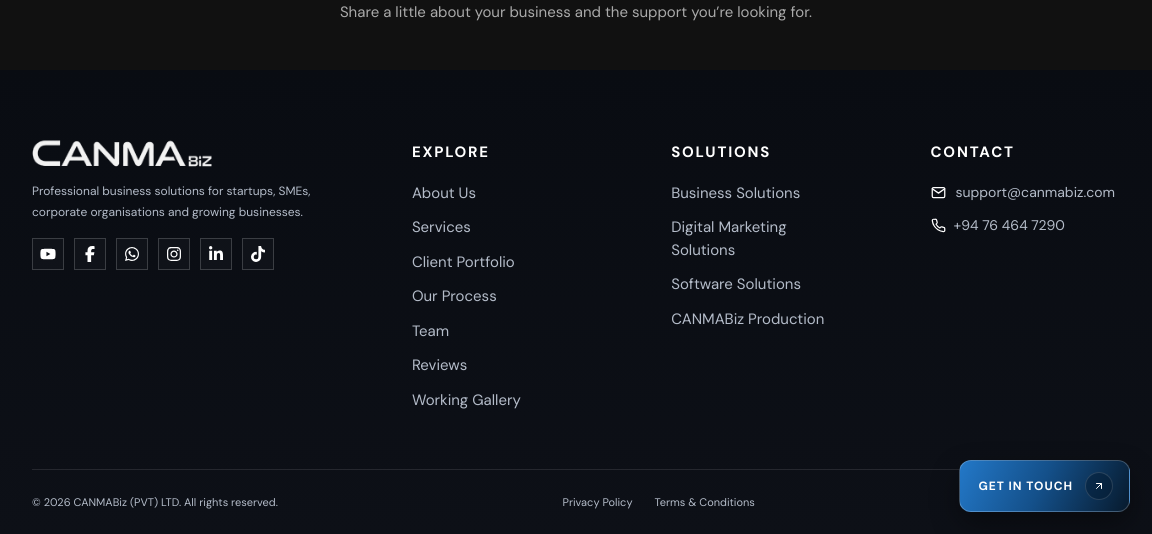
it: shows the complete department-specific Our Process workflows
The image size is (1152, 534).
(page scrolled)
Click the link "Our Process": [454, 297] box [412,285,497,308]
(page scrolled)
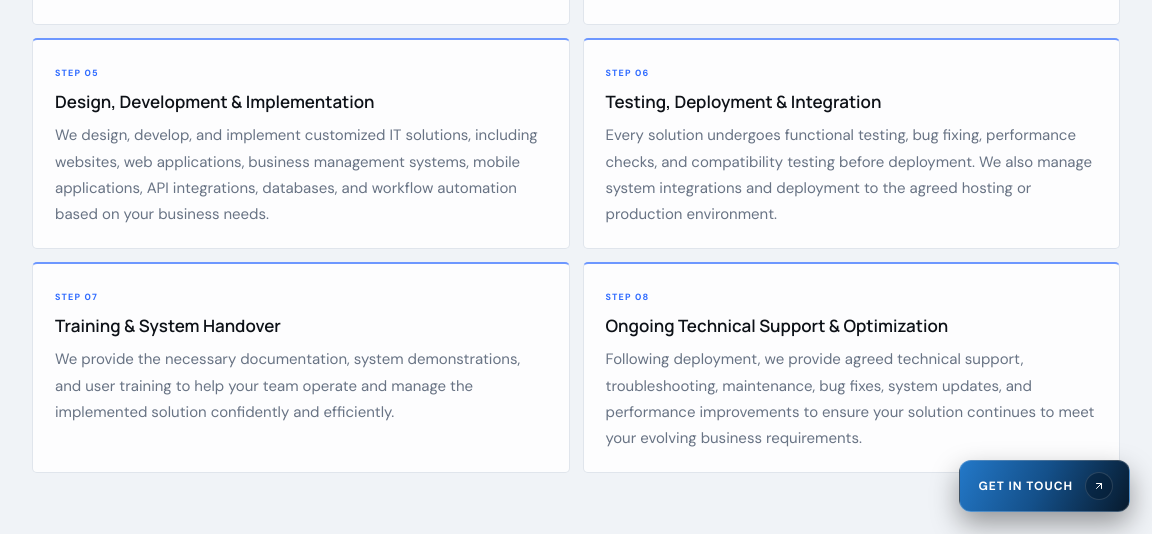
Expected: the heading "Testing, Deployment & Integration" is shown, [606,90,881,113]
Expected: the text "API integrations, databases, and workflow automation" is shown, [55,125,538,224]
